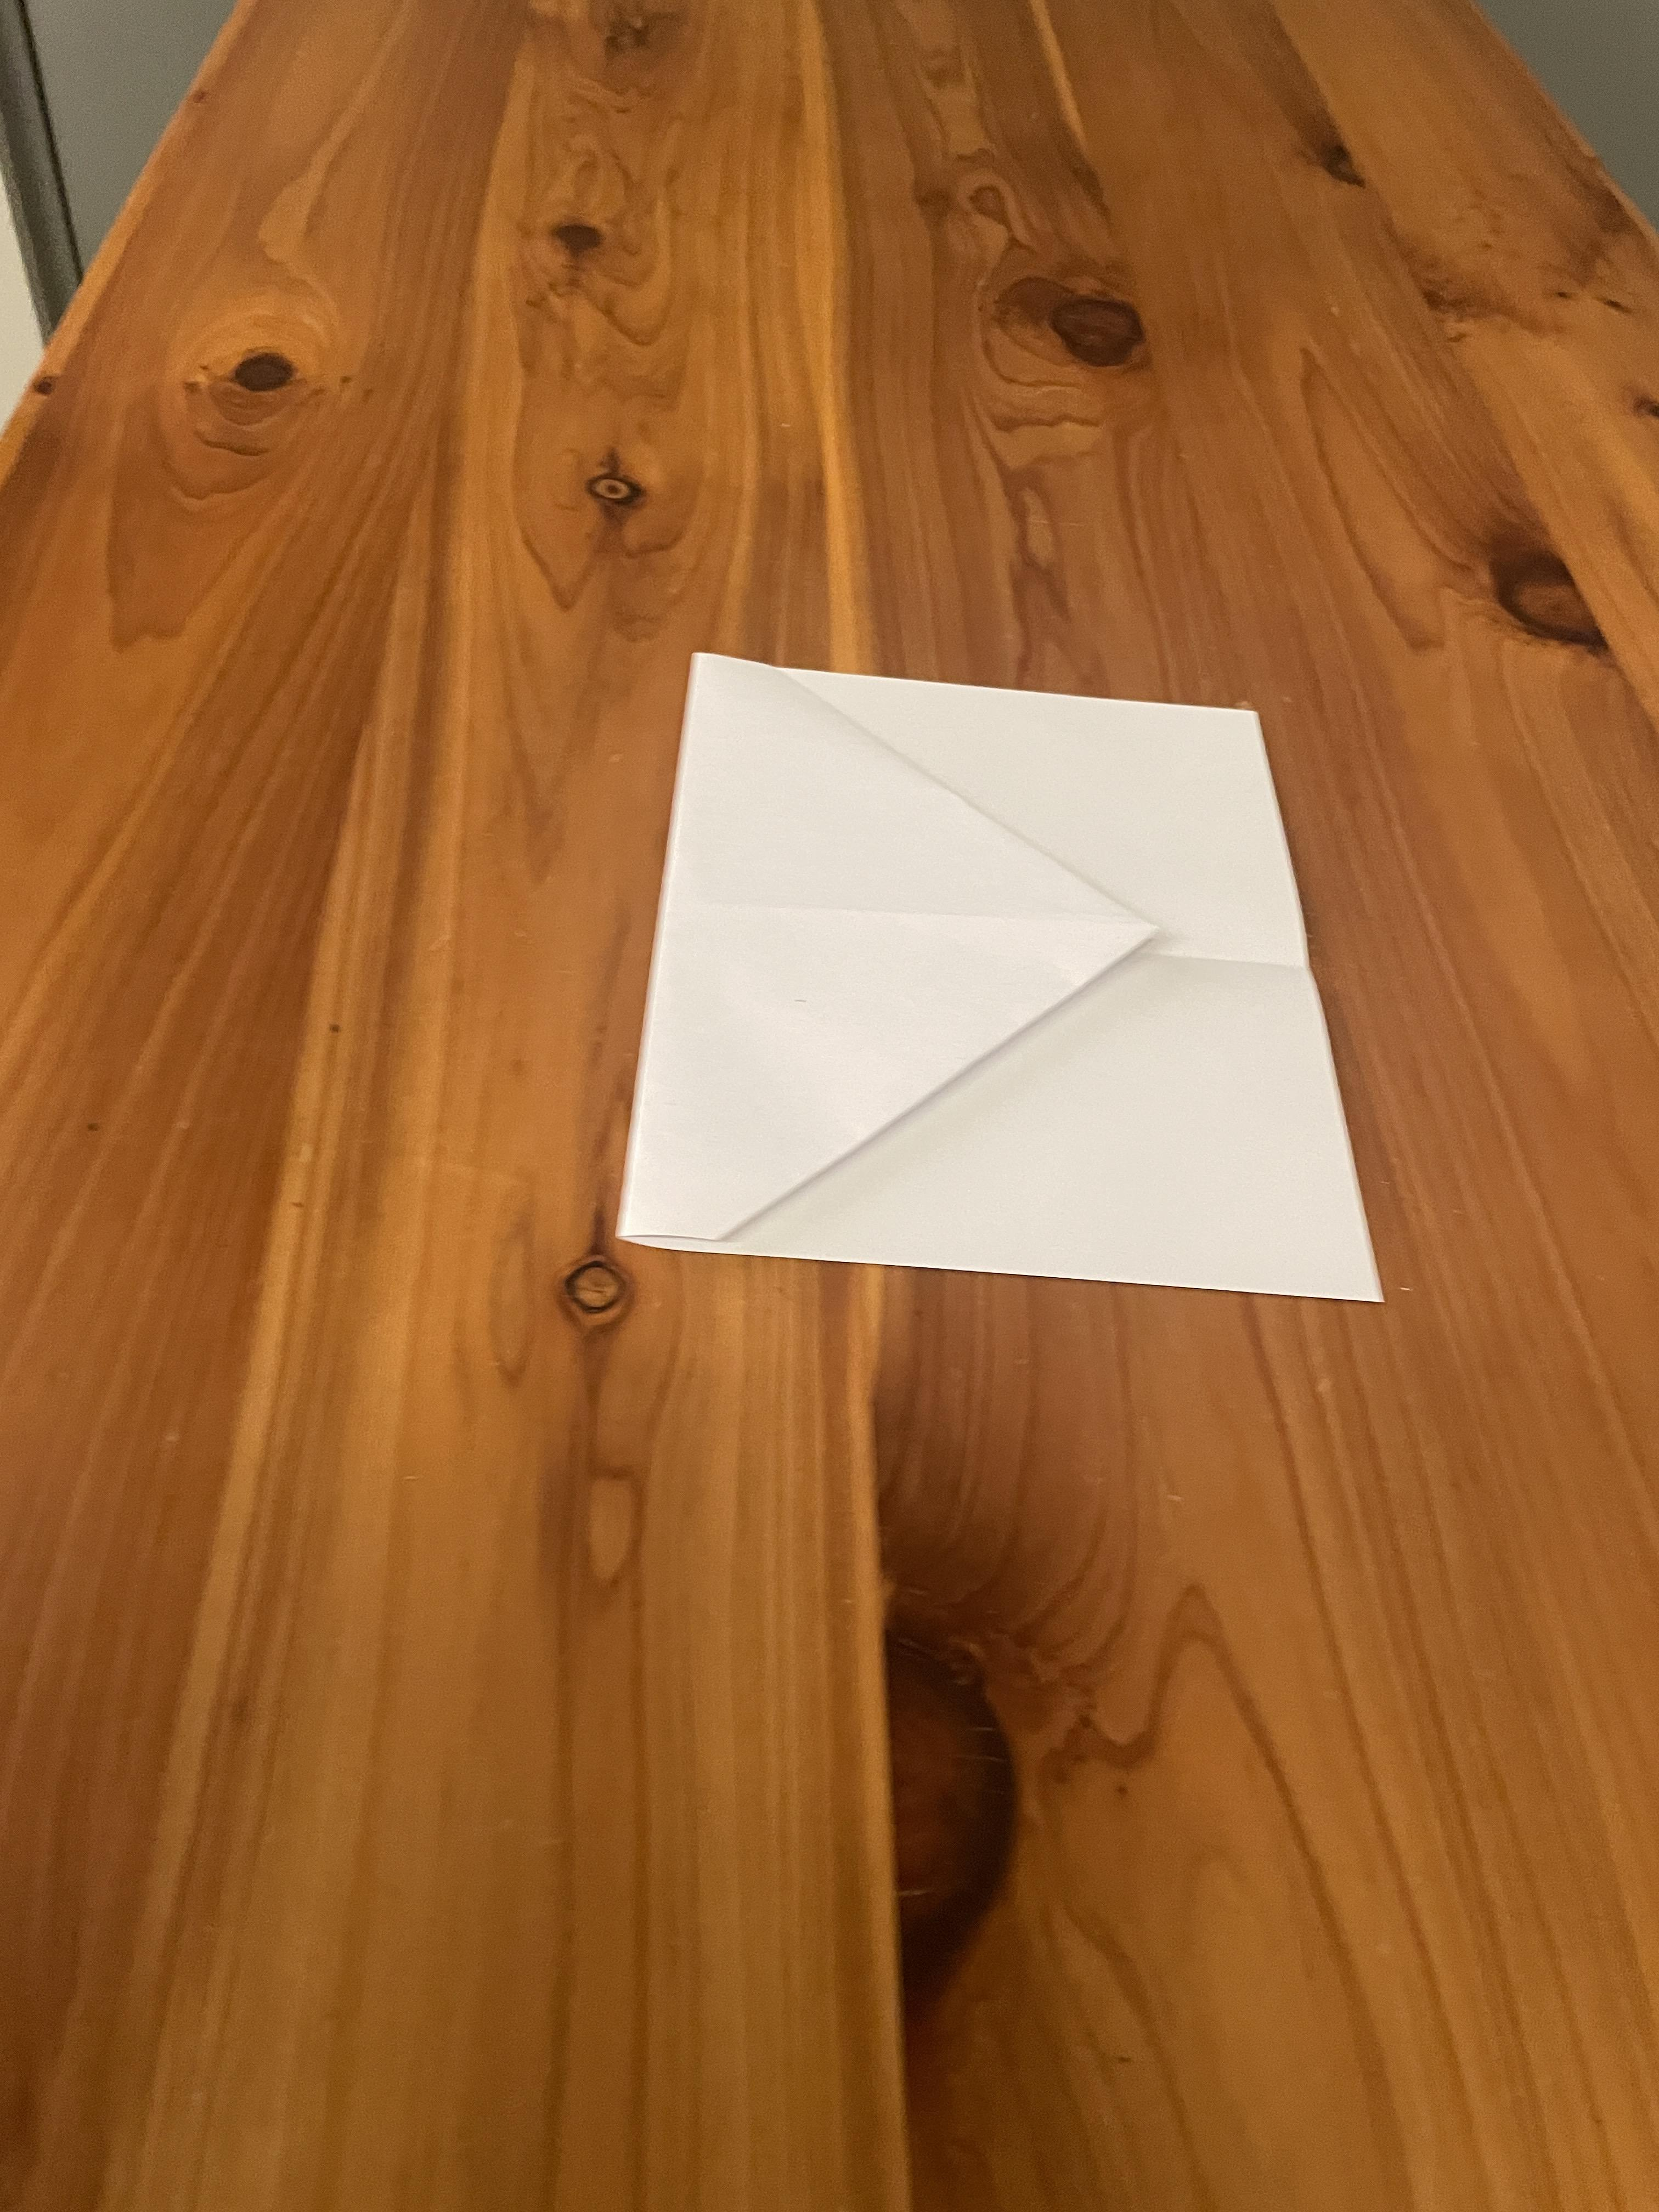shape_1: (401, 395, 1659, 1806)
